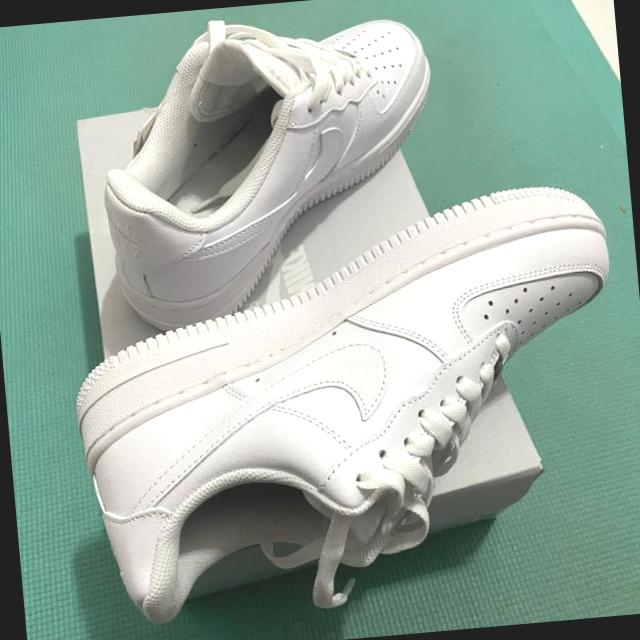nike_original_airforce: (29, 176, 640, 634), (85, 2, 500, 336)
